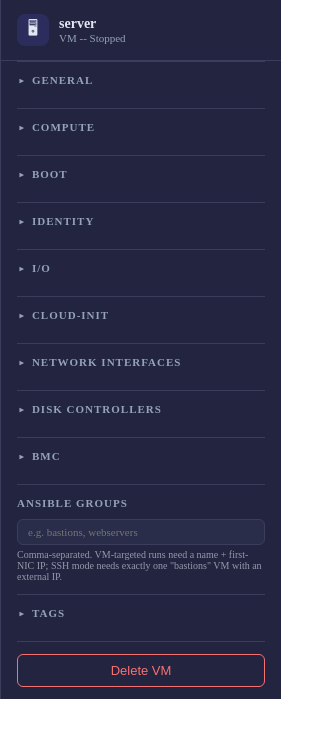
Scenario: PropertiesPanel persistent editing › validates connected NIC address 10.0.0.1
Click the button "▼ Network Interfaces".
click(141, 362)  # box [17,356,265,368]
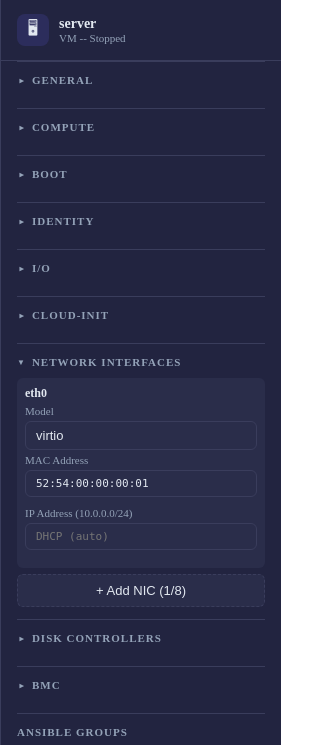
Type "10.0.0.1" into the field labelled "IP Address (10.0.0.0/24)".
click(141, 536); type("10.0.0.1")  # box [25,523,257,550]
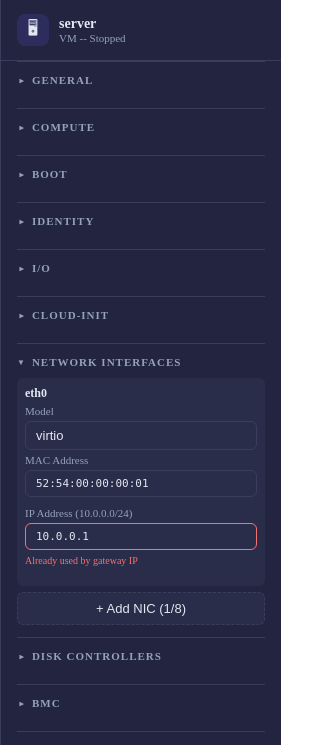
expect the text "Already used by gateway IP" is shown: met, box [25,555,138,566]
